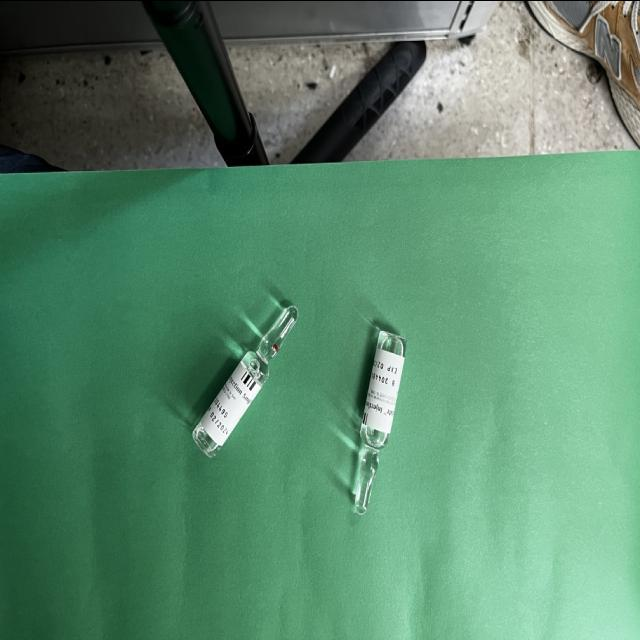Ampoules: (192, 304, 298, 455), (352, 329, 406, 513)
